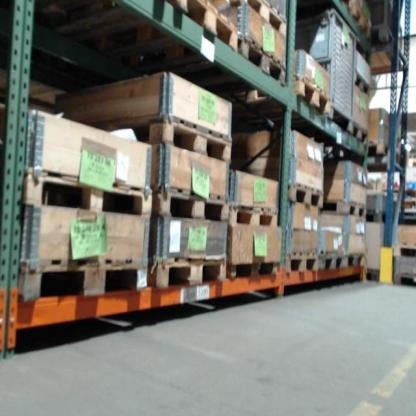pallet: (84, 2, 241, 55), (82, 114, 231, 163), (17, 163, 153, 216), (17, 257, 148, 298), (153, 185, 228, 224), (218, 2, 290, 40), (232, 39, 289, 86), (148, 255, 228, 286), (317, 2, 373, 38), (292, 79, 329, 123), (226, 258, 282, 285), (228, 203, 279, 228), (286, 179, 325, 208), (322, 198, 366, 220), (284, 253, 320, 278), (367, 144, 403, 168), (322, 251, 343, 273), (392, 272, 416, 290), (348, 124, 367, 146), (348, 248, 364, 273), (395, 244, 416, 259), (357, 70, 368, 98)
stillage: (284, 11, 357, 139), (365, 1, 407, 64)
